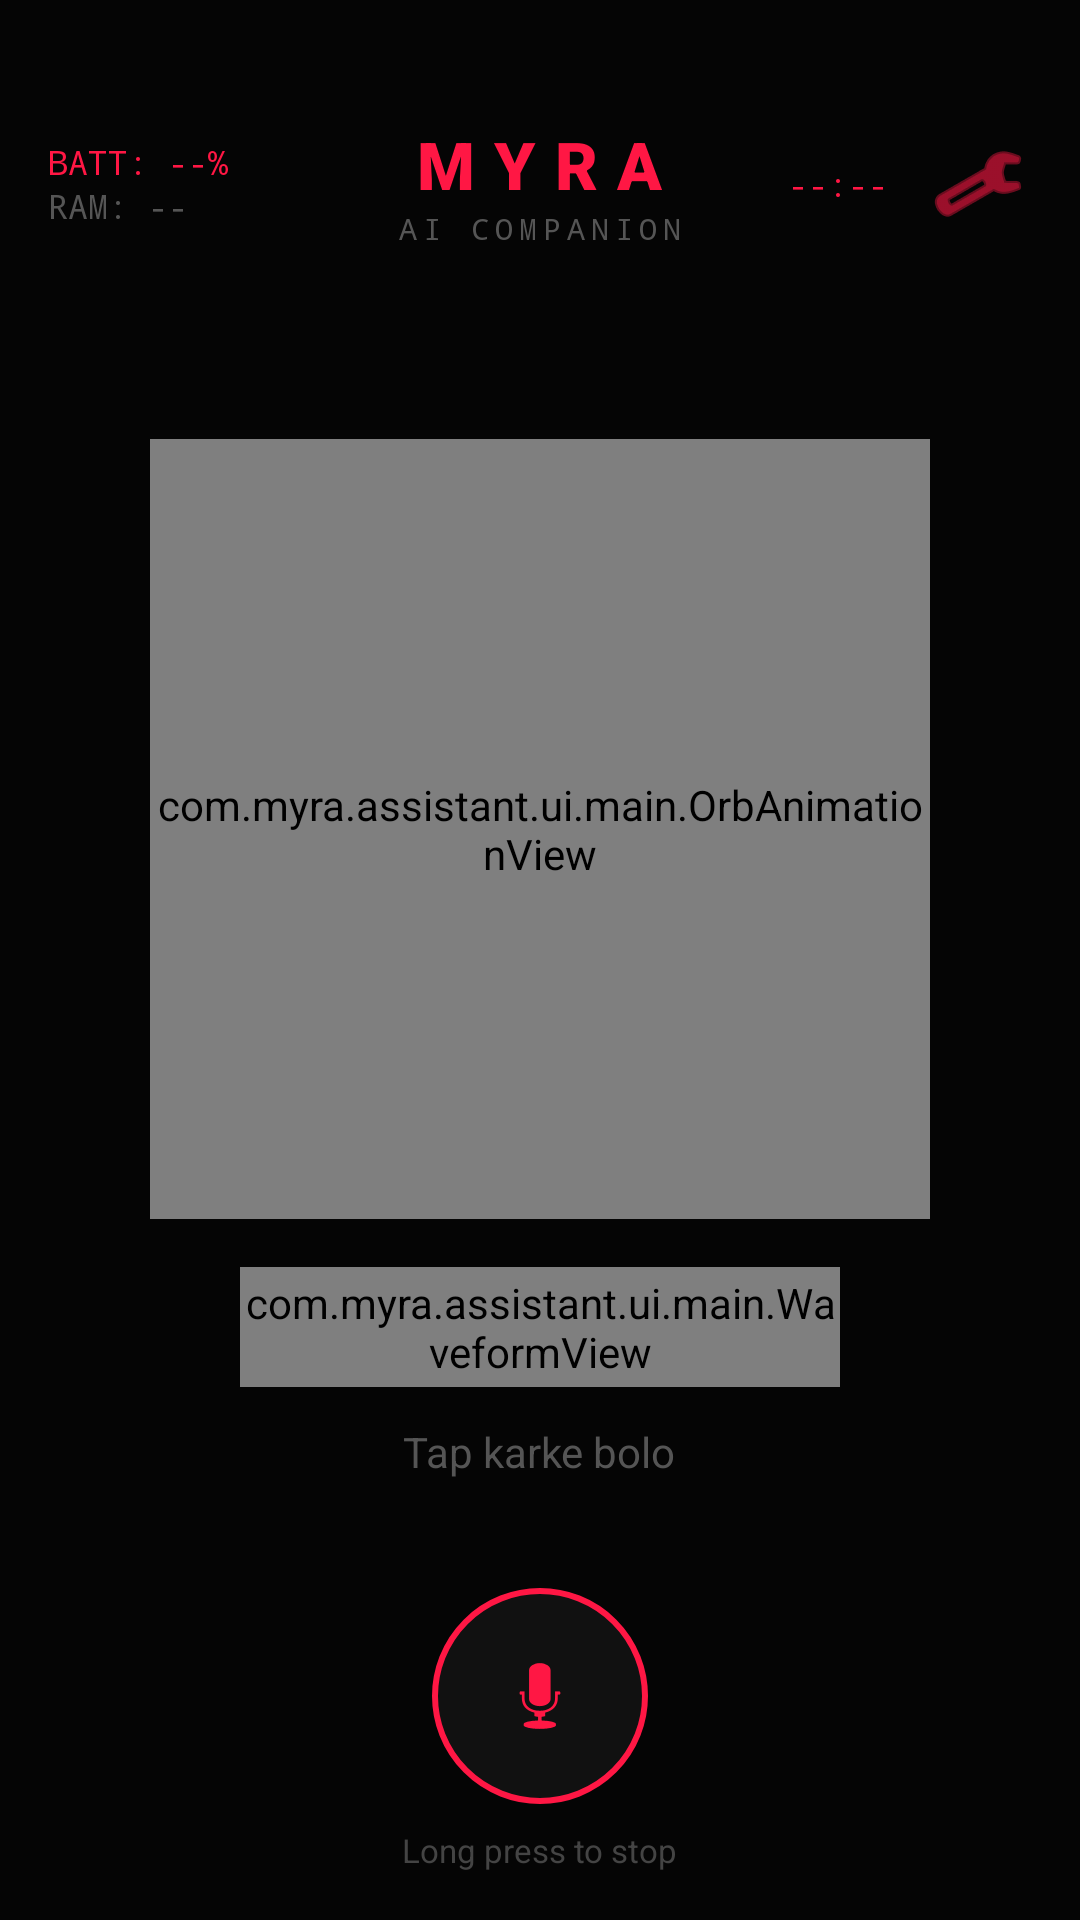

Locate icon controls on the screen. Image size 1080px×1920px, boxes as bbox(x1, y1, x2, y2).
Microphone: bbox(432, 1588, 648, 1804)
Settings: bbox(935, 151, 1021, 217)
